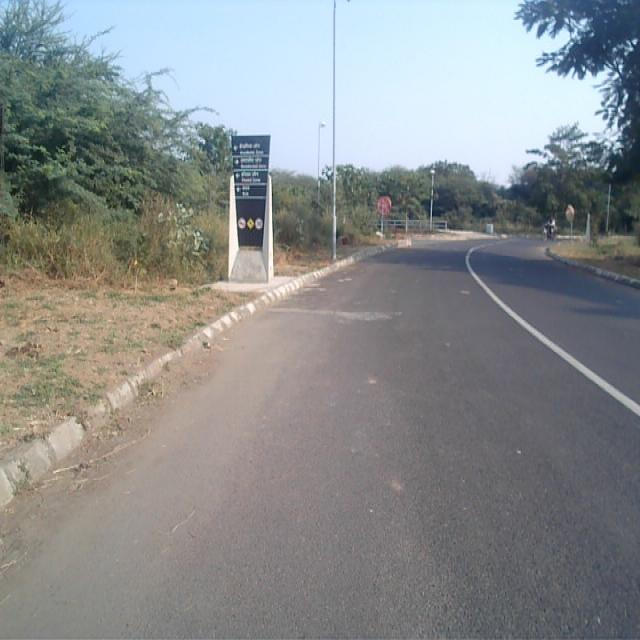lane: (0, 240, 640, 640)
